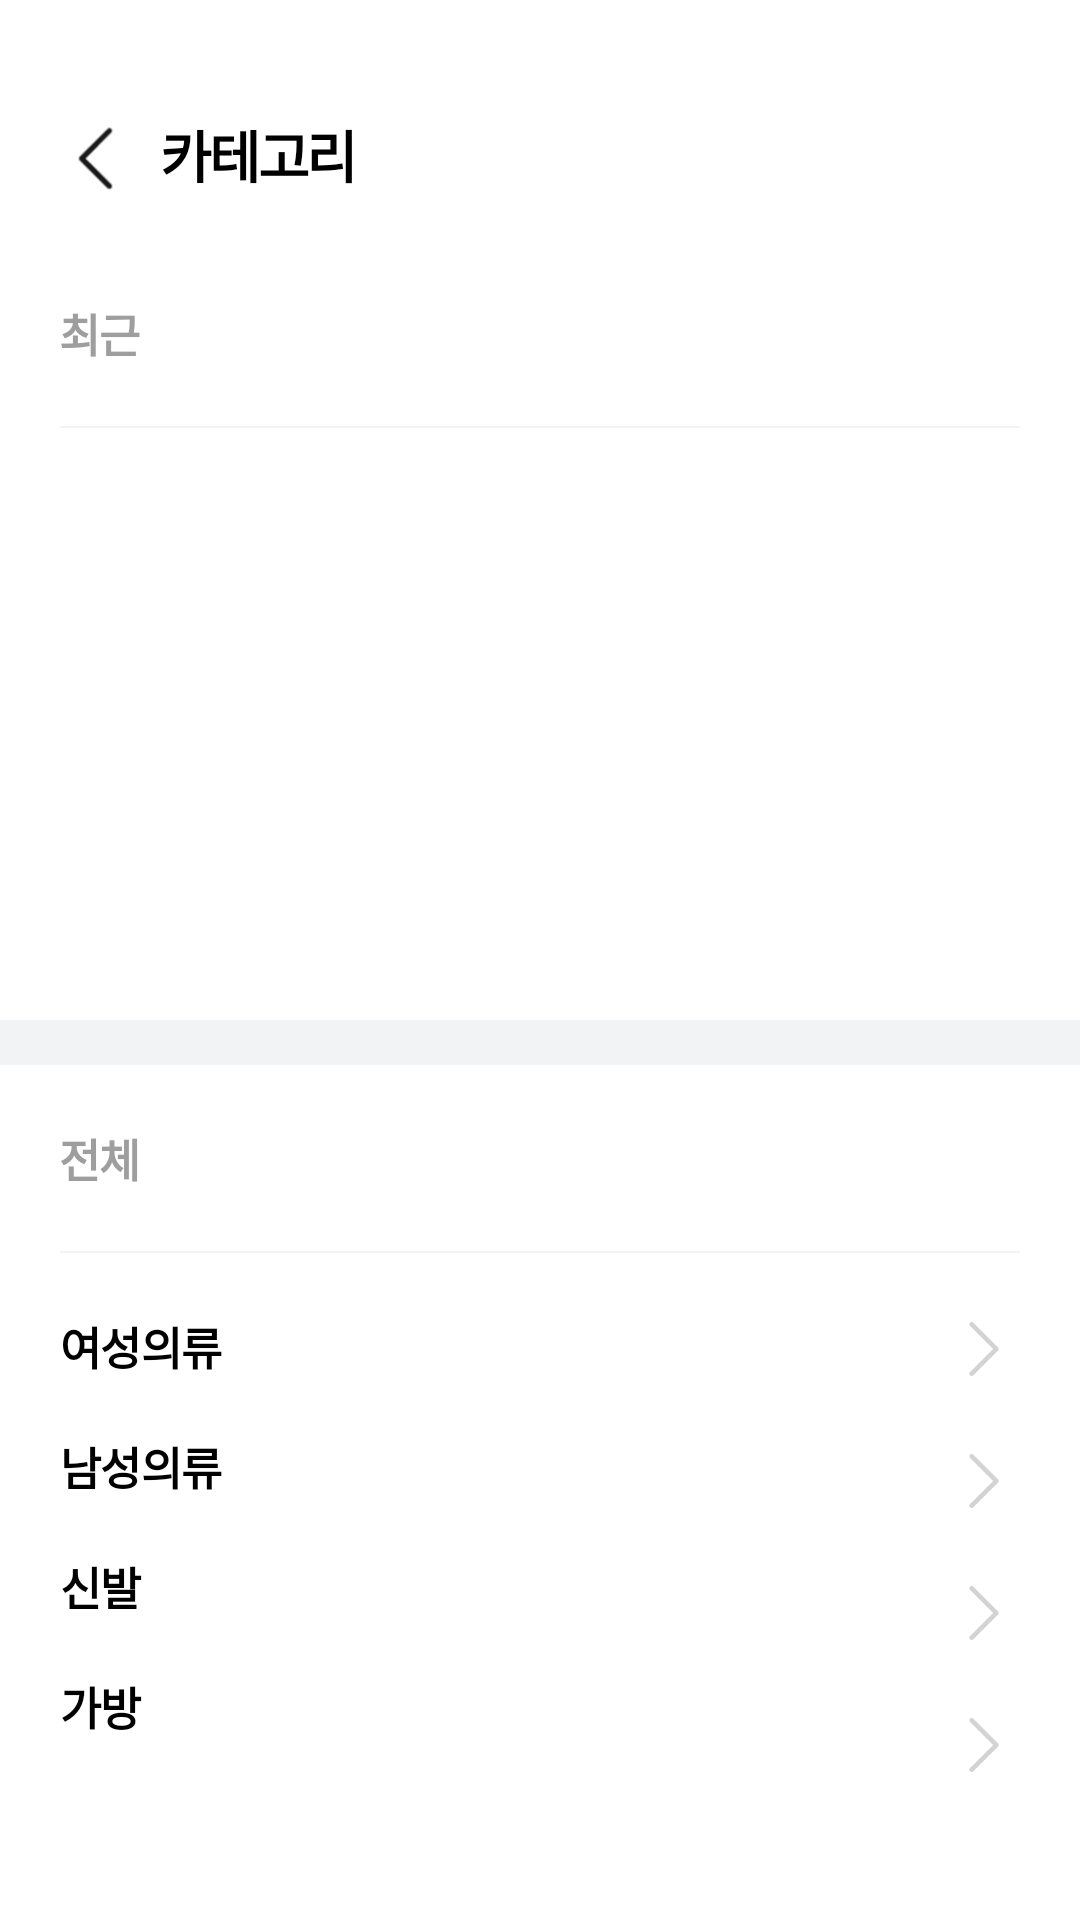

Locate icon controls on the screen. Image size 1080px×1920px, boxes as (x1, y1, x2, y2).
chevron right lightgray: (969, 1322, 999, 1376), (969, 1454, 999, 1508), (969, 1586, 999, 1640), (969, 1718, 999, 1772)
left arrow: (78, 127, 113, 190)
